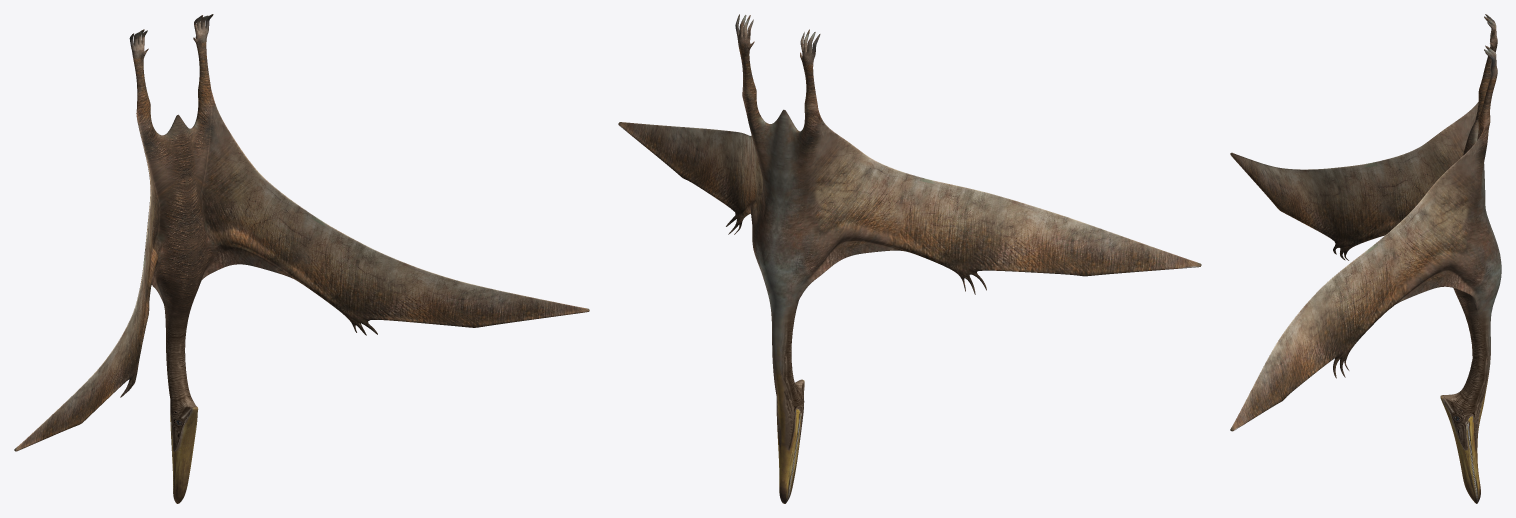
File: 13623_Quetzalcoatlus_v1_L2.obj
3 renders of one model, left to right at view 1: azimuth 30°, elevation 25°; view 2: azimuth 150°, elevation 25°; view 3: azimuth 270°, elevation 25°, orthographic. The views are drawn at different scales.
Visible parts, largest first — view 1: 13623_Quetzalcoatlus; view 2: 13623_Quetzalcoatlus; view 3: 13623_Quetzalcoatlus.
Part boxes in pixels (box(x1,y1,x2,y2)): 13623_Quetzalcoatlus: box(14, 14, 589, 503); 13623_Quetzalcoatlus: box(618, 14, 1201, 503); 13623_Quetzalcoatlus: box(1230, 14, 1501, 503).
Bounding box in the file's own units: 406 × 323 × 168.
1 material, 1 textured.
